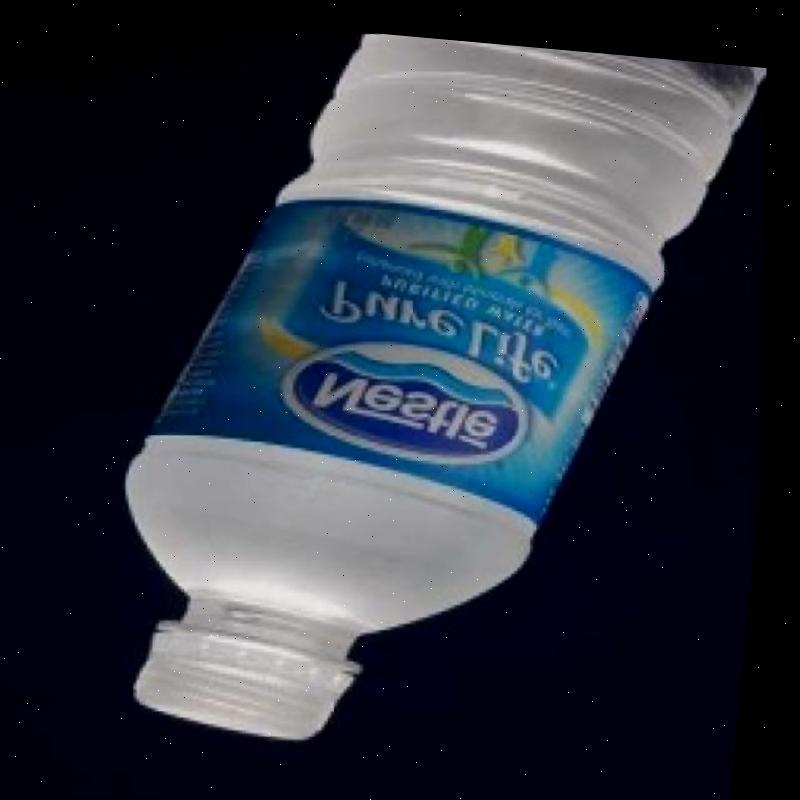botella: (76, 9, 800, 779)
